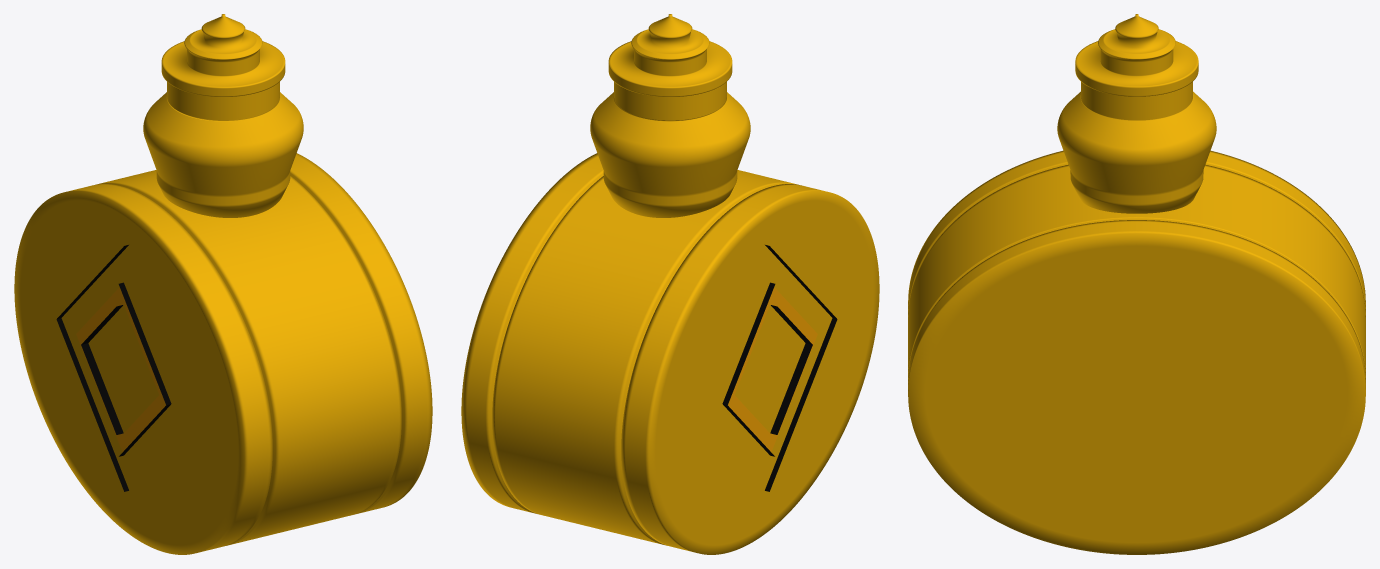
File: perfume5.gltf
3 views of the same model, side by side, from view 1: azimuth 30°, elevation 25°; view 2: azimuth 150°, elevation 25°; view 3: azimuth 270°, elevation 25° (orthographic).
Parts seen in each view (by area): view 1: Cylinder; view 2: Cylinder; view 3: Cylinder.
Boxes of the visible parts, box(x1,y1,x2,y2) form: Cylinder: box(14, 14, 432, 554); Cylinder: box(461, 14, 879, 554); Cylinder: box(908, 14, 1365, 554).
Size of the model in its own units: 1.01 by 2.38 by 2.
